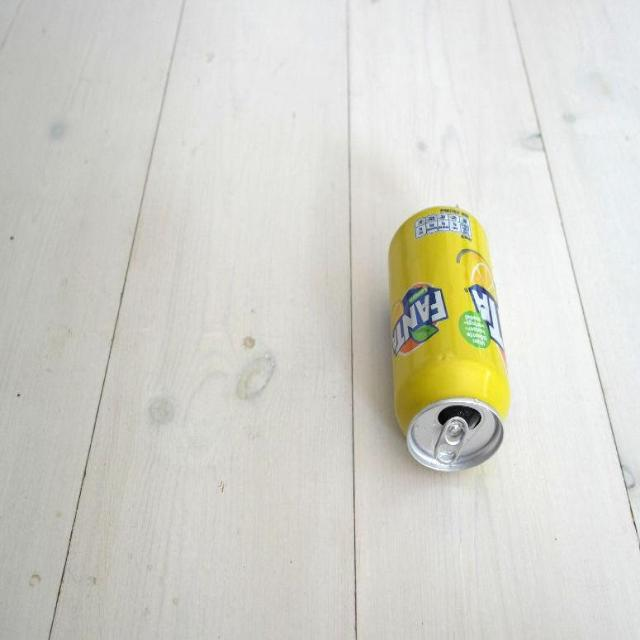can: (387, 204, 510, 474), (433, 414, 469, 470)
